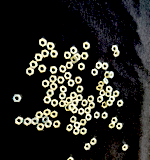nut: (12, 95, 22, 103), (39, 38, 47, 48), (15, 117, 23, 126), (29, 61, 38, 69), (34, 54, 43, 62), (41, 49, 49, 58), (46, 42, 55, 50), (31, 118, 39, 126), (26, 68, 34, 76), (50, 50, 58, 58), (38, 65, 46, 73), (42, 80, 50, 88), (42, 116, 50, 124), (43, 109, 51, 117), (53, 121, 61, 129), (46, 90, 54, 98), (50, 83, 58, 91), (50, 66, 58, 74), (59, 65, 67, 73), (64, 52, 72, 60), (64, 72, 72, 80), (81, 52, 89, 60), (44, 121, 53, 128), (24, 118, 31, 126), (35, 112, 43, 119), (43, 97, 51, 104), (50, 111, 58, 118), (51, 99, 58, 107), (49, 76, 57, 83), (60, 86, 67, 94), (57, 77, 65, 84), (66, 62, 74, 69), (71, 56, 78, 64), (70, 116, 77, 124), (76, 86, 84, 93), (84, 143, 91, 151), (90, 138, 97, 146), (83, 42, 90, 50), (78, 63, 85, 71), (80, 128, 87, 136), (78, 108, 85, 116), (37, 124, 44, 131), (66, 125, 73, 132), (59, 101, 66, 108), (59, 93, 66, 100), (74, 54, 81, 61), (65, 105, 72, 112), (66, 97, 73, 104), (68, 80, 75, 87), (70, 92, 77, 99), (68, 104, 75, 111), (71, 107, 78, 114), (72, 100, 79, 107), (76, 95, 83, 102), (75, 77, 82, 84), (73, 129, 80, 136), (74, 122, 81, 129), (80, 119, 87, 126), (85, 114, 92, 121), (88, 96, 95, 103), (109, 122, 116, 129), (92, 69, 99, 76), (102, 63, 109, 70), (113, 50, 120, 57), (97, 96, 104, 103), (98, 81, 105, 88), (117, 100, 124, 107), (106, 86, 113, 93), (113, 91, 120, 98), (71, 47, 77, 55), (89, 102, 95, 110), (102, 112, 108, 120), (96, 62, 102, 70), (107, 99, 113, 107), (82, 100, 88, 107), (85, 108, 91, 115), (94, 112, 100, 119), (117, 123, 123, 130), (112, 45, 118, 52), (102, 102, 108, 109), (97, 84, 103, 91), (100, 90, 106, 97), (103, 78, 109, 85), (104, 72, 110, 79), (109, 96, 115, 103), (112, 118, 118, 124), (106, 92, 112, 98), (109, 72, 114, 79), (123, 145, 128, 151), (67, 157, 74, 160)
